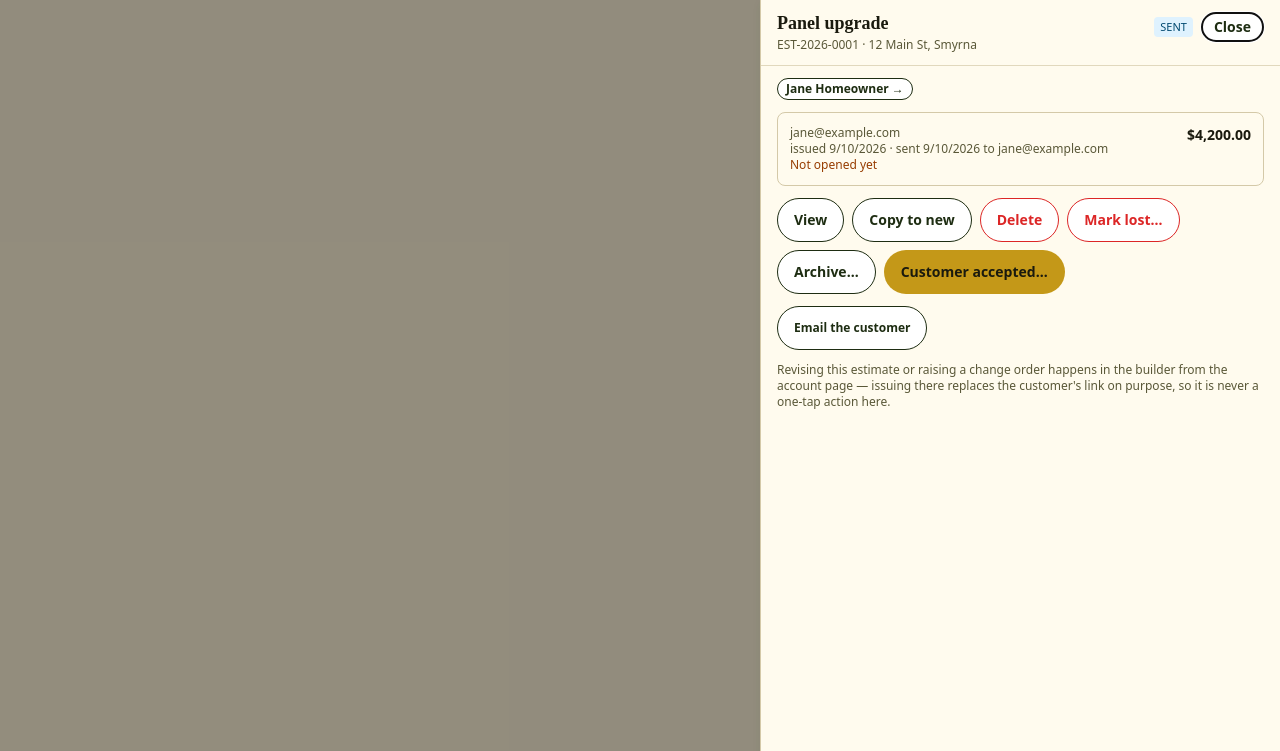
Test case: EstimateDrawer — the ONE email control (Estimate · Financing link · Message) › shows the server's refusal on the panel when the send is refused
Click the button "Email the customer".
click(852, 328)  # box x1=777 y1=306 x2=928 y2=350
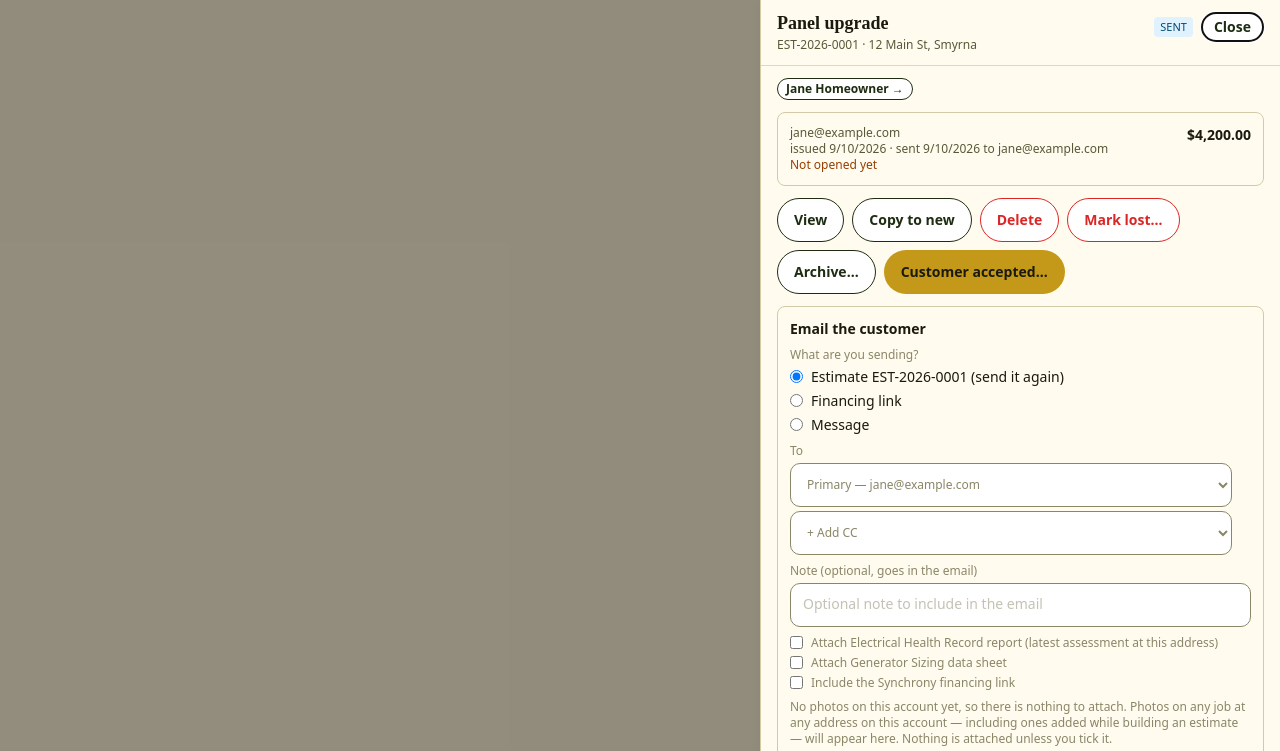
Click the radio button labelled "Financing link".
click(796, 400)  # box x1=790 y1=394 x2=803 y2=407
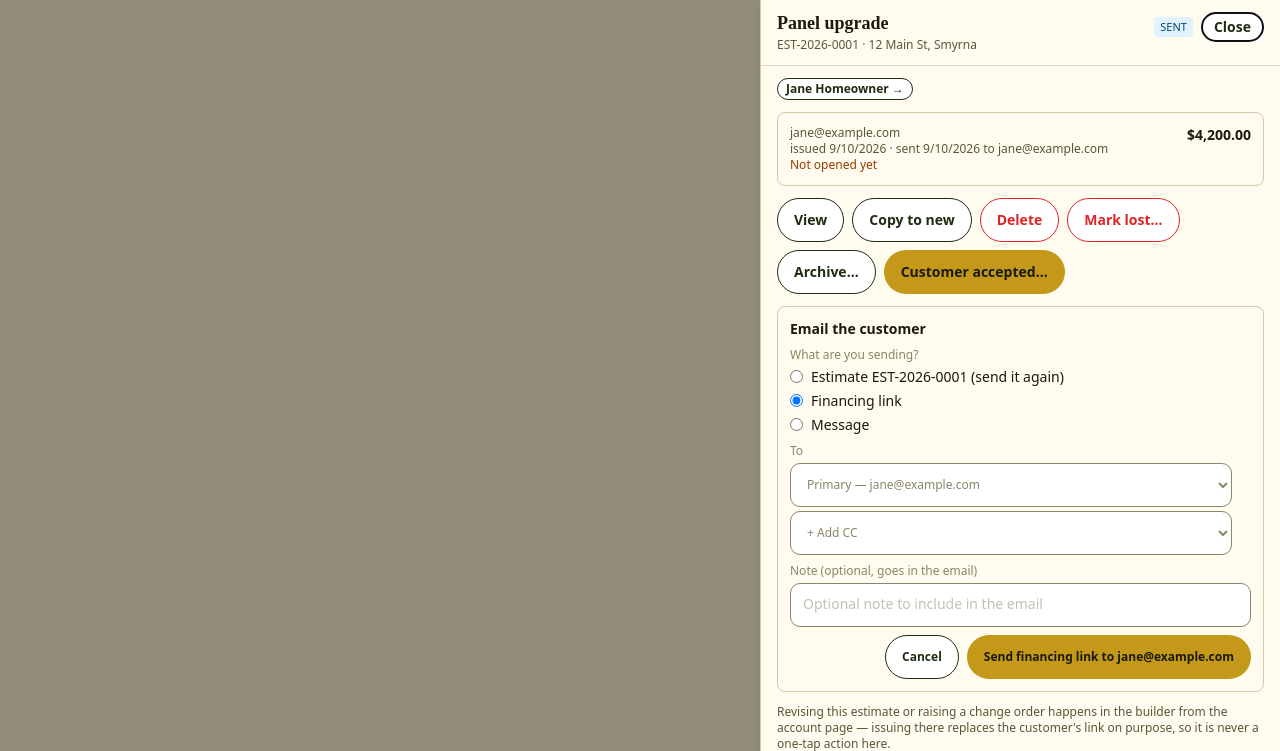
Click the button "Send financing link to jane@example.com".
click(1109, 656)  # box x1=967 y1=634 x2=1251 y2=678
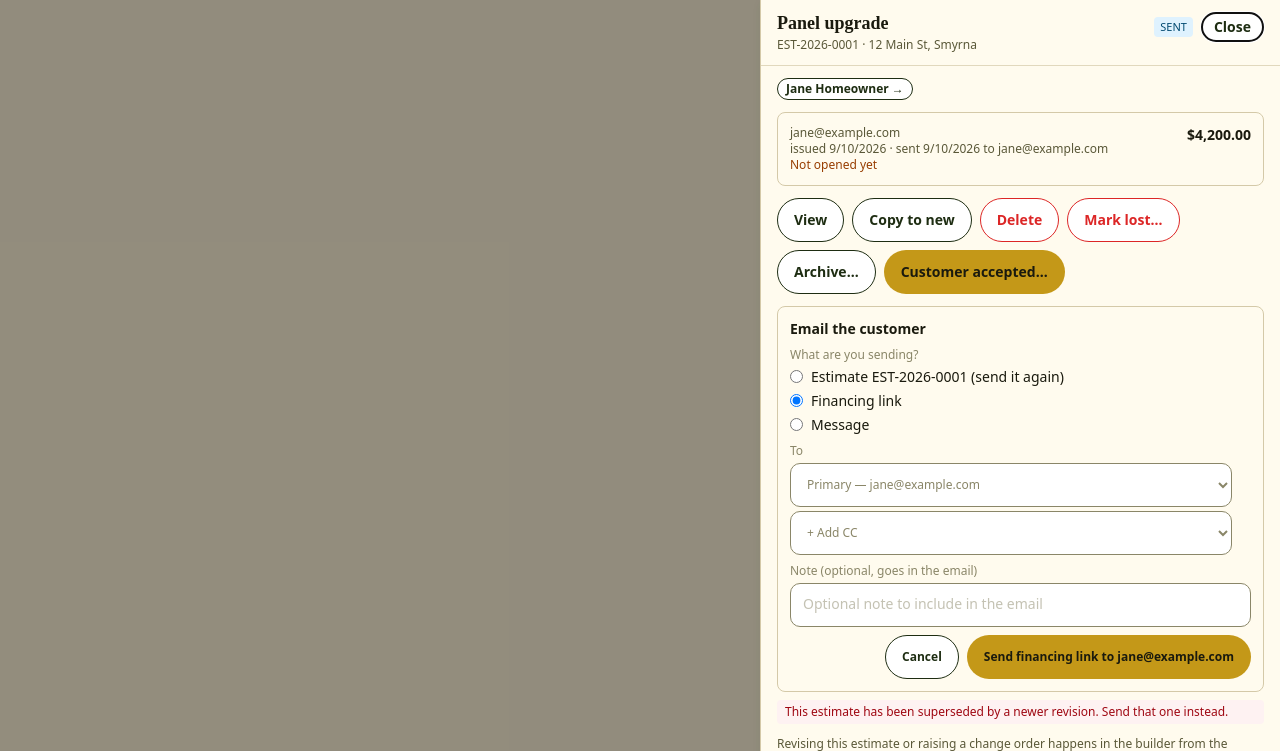
Now the text "This estimate has been superseded by a newer revision. Send that one instead." is shown, box x1=777 y1=700 x2=1264 y2=724
